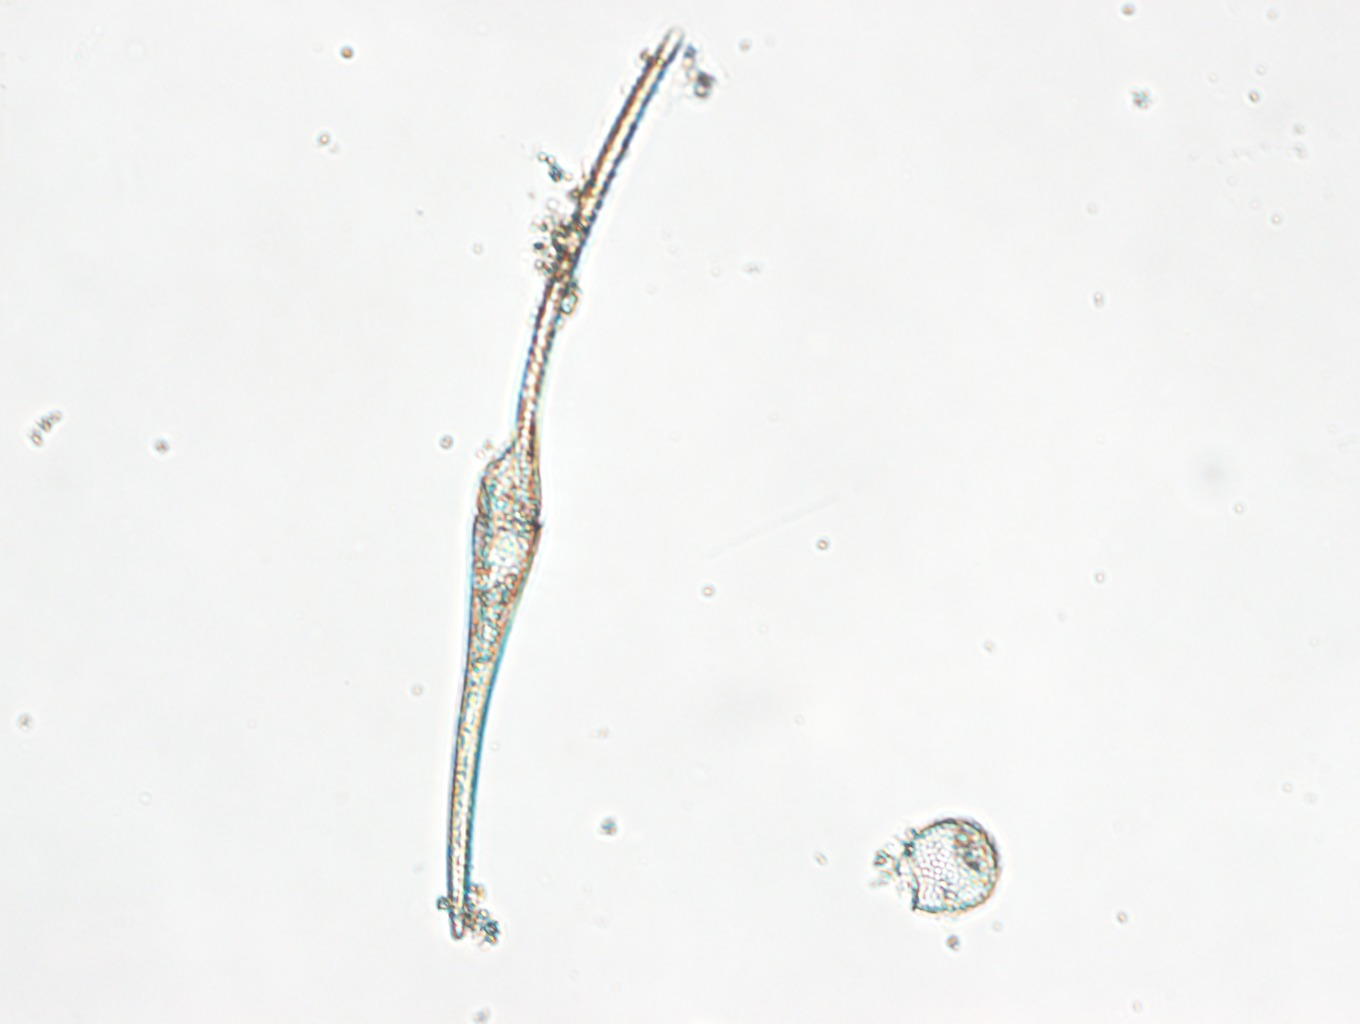ceratium fusus: (448, 24, 686, 940)
